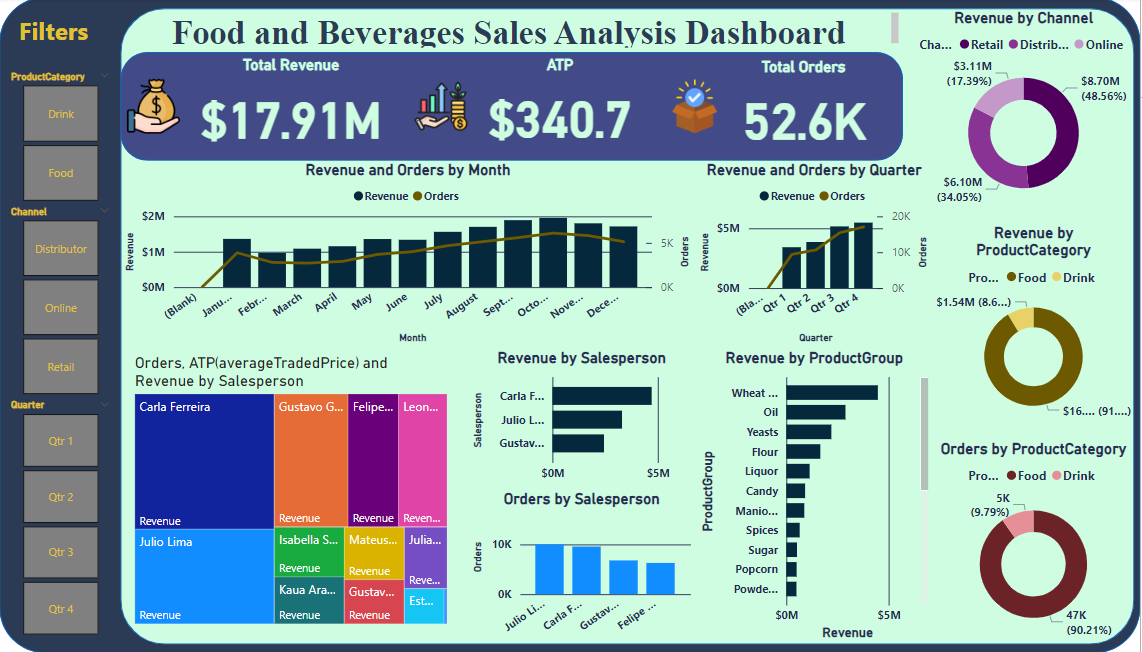

The dashboard page shown, as its layout file describes it:
{"tool":"powerbi","page":{"name":"Page 1","canvas":[1280,720],"ordinal":0},"visuals":[{"type":"shape","box":[28.8,0,1251.8,719.8],"z":0},{"type":"shape","box":[161.8,12.3,1111.9,697.9],"z":1000},{"type":"shape","box":[161.8,60.3,858.3,119.3],"z":2000},{"type":"card","title":"Total Revenue","fields":{"Values":["Product.Revenue"]},"box":[198.8,64.4,300.3,109.7],"z":3000},{"type":"card","title":"ATP","fields":{"Values":["Product.ATP"]},"box":[493.6,64.4,300.3,108.3],"z":4000},{"type":"card","title":"Total Orders","fields":{"Values":["Product.Orders"]},"box":[760.9,65.8,300.3,108.3],"z":5000},{"type":"donutChart","fields":{"Y":["Product.Revenue"],"Category":["Sheet1.Channel"]},"box":[1031,12.3,242.7,224.9],"z":6000},{"type":"donutChart","fields":{"Y":["Product.Revenue"],"Category":["Product.ProductCategory"]},"box":[1053,248.2,220.7,224.9],"z":7000},{"type":"donutChart","fields":{"Category":["Product.ProductCategory"],"Y":["Product.Orders"]},"box":[1053,485.4,220.7,224.9],"z":8000},{"type":"lineStackedColumnComboChart","fields":{"Y":["Product.Revenue"],"Y2":["Product.Orders"],"Category":["Sheet1.OrderDate.Variation.Date Hierarchy.Quarter"]},"box":[792.5,179.6,260.5,205.7],"z":9000},{"type":"barChart","fields":{"Y":["Product.Revenue"],"Category":["Product.ProductGroup"]},"box":[792.5,385.3,260.5,324.9],"z":10000},{"type":"lineStackedColumnComboChart","fields":{"Y":["Product.Revenue"],"Y2":["Product.Orders"],"Category":["Sheet1.OrderDate.Variation.Date Hierarchy.Month"]},"box":[161.8,179.6,630.7,205.7],"z":11000},{"type":"barChart","fields":{"Y":["Product.Revenue"],"Category":["Sheet1.Salesperson"]},"box":[542.9,385.3,249.5,154.9],"z":12000},{"type":"clusteredColumnChart","fields":{"Category":["Sheet1.Salesperson"],"Y":["Product.Orders"]},"box":[542.9,540.2,249.5,170],"z":13000},{"type":"pivotTable","fields":{"Rows":["Sheet1.Salesperson"],"Values":["Product.Orders","Product.ATP","Product.Revenue"]},"box":[181,385.3,352.4,305.7],"z":14000},{"type":"slicer","fields":{"Values":["Product.ProductCategory"]},"box":[28.8,75.4,133,154.9],"z":15000},{"type":"slicer","fields":{"Values":["Sheet1.Channel"]},"box":[28.8,223.5,133,219.4],"z":16000},{"type":"slicer","fields":{"Values":["Sheet1.OrderDate.Variation.Date Hierarchy.Quarter"]},"box":[28.8,436,133,270.1],"z":17000},{"type":"textbox","box":[163.2,12.3,856.9,48],"z":18000},{"type":"image","box":[756.8,85,69.9,69.9],"z":19000},{"type":"image","box":[163.2,85,69.9,69.9],"z":20000},{"type":"image","box":[478.5,85,69.9,69.9],"z":21000},{"type":"textbox","box":[45.2,13.7,104.2,48],"z":22000}]}

Visuals, with their boxes in screenshot pixels (x1, y1, x2, y2), scaled from the page's 1280x720 canvas onto the 1142x652 screenshot:
shape: x1=26, y1=0, x2=1141, y2=651
shape: x1=144, y1=11, x2=1136, y2=643
shape: x1=144, y1=55, x2=910, y2=163
"Total Revenue" card: x1=177, y1=58, x2=445, y2=158
"ATP" card: x1=440, y1=58, x2=708, y2=156
"Total Orders" card: x1=679, y1=60, x2=947, y2=158
donutChart - Product.Revenue x Sheet1.Channel: x1=920, y1=11, x2=1136, y2=215
donutChart - Product.Revenue x Product.ProductCategory: x1=939, y1=225, x2=1136, y2=428
donutChart - Product.ProductCategory x Product.Orders: x1=939, y1=440, x2=1136, y2=643
lineStackedColumnComboChart - Product.Revenue x Product.Orders: x1=707, y1=163, x2=939, y2=349
barChart - Product.Revenue x Product.ProductGroup: x1=707, y1=349, x2=939, y2=643
lineStackedColumnComboChart - Product.Revenue x Product.Orders: x1=144, y1=163, x2=707, y2=349
barChart - Product.Revenue x Sheet1.Salesperson: x1=484, y1=349, x2=707, y2=489
clusteredColumnChart - Sheet1.Salesperson x Product.Orders: x1=484, y1=489, x2=707, y2=643
pivotTable - Sheet1.Salesperson x Product.Orders: x1=161, y1=349, x2=476, y2=626
slicer - Product.ProductCategory: x1=26, y1=68, x2=144, y2=209
slicer - Sheet1.Channel: x1=26, y1=202, x2=144, y2=401
slicer - Sheet1.OrderDate.Variation.Date Hierarchy.Quarter: x1=26, y1=395, x2=144, y2=639
textbox: x1=146, y1=11, x2=910, y2=55
image: x1=675, y1=77, x2=738, y2=140
image: x1=146, y1=77, x2=208, y2=140
image: x1=427, y1=77, x2=489, y2=140
textbox: x1=40, y1=12, x2=133, y2=56
